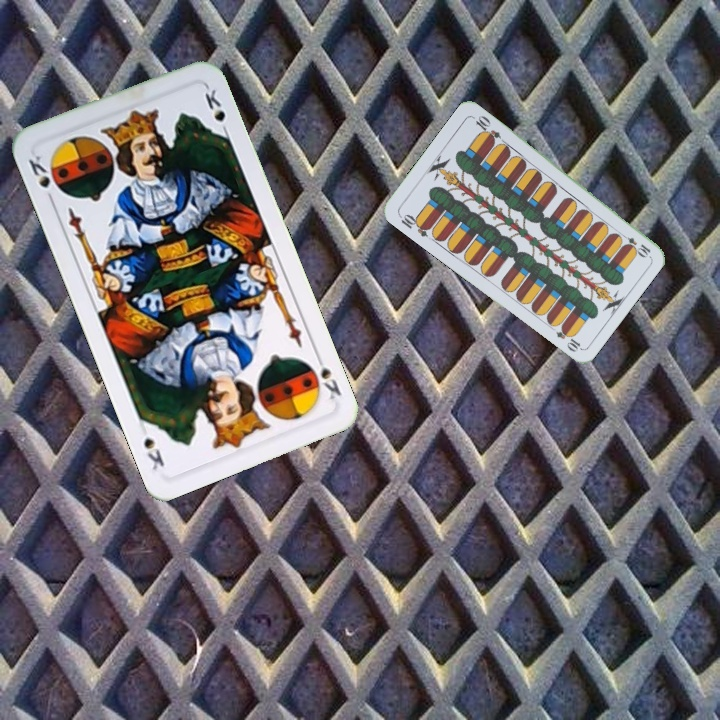E10: (616, 229, 653, 259), (395, 210, 433, 239)
SK: (24, 151, 64, 207), (303, 349, 344, 402)
